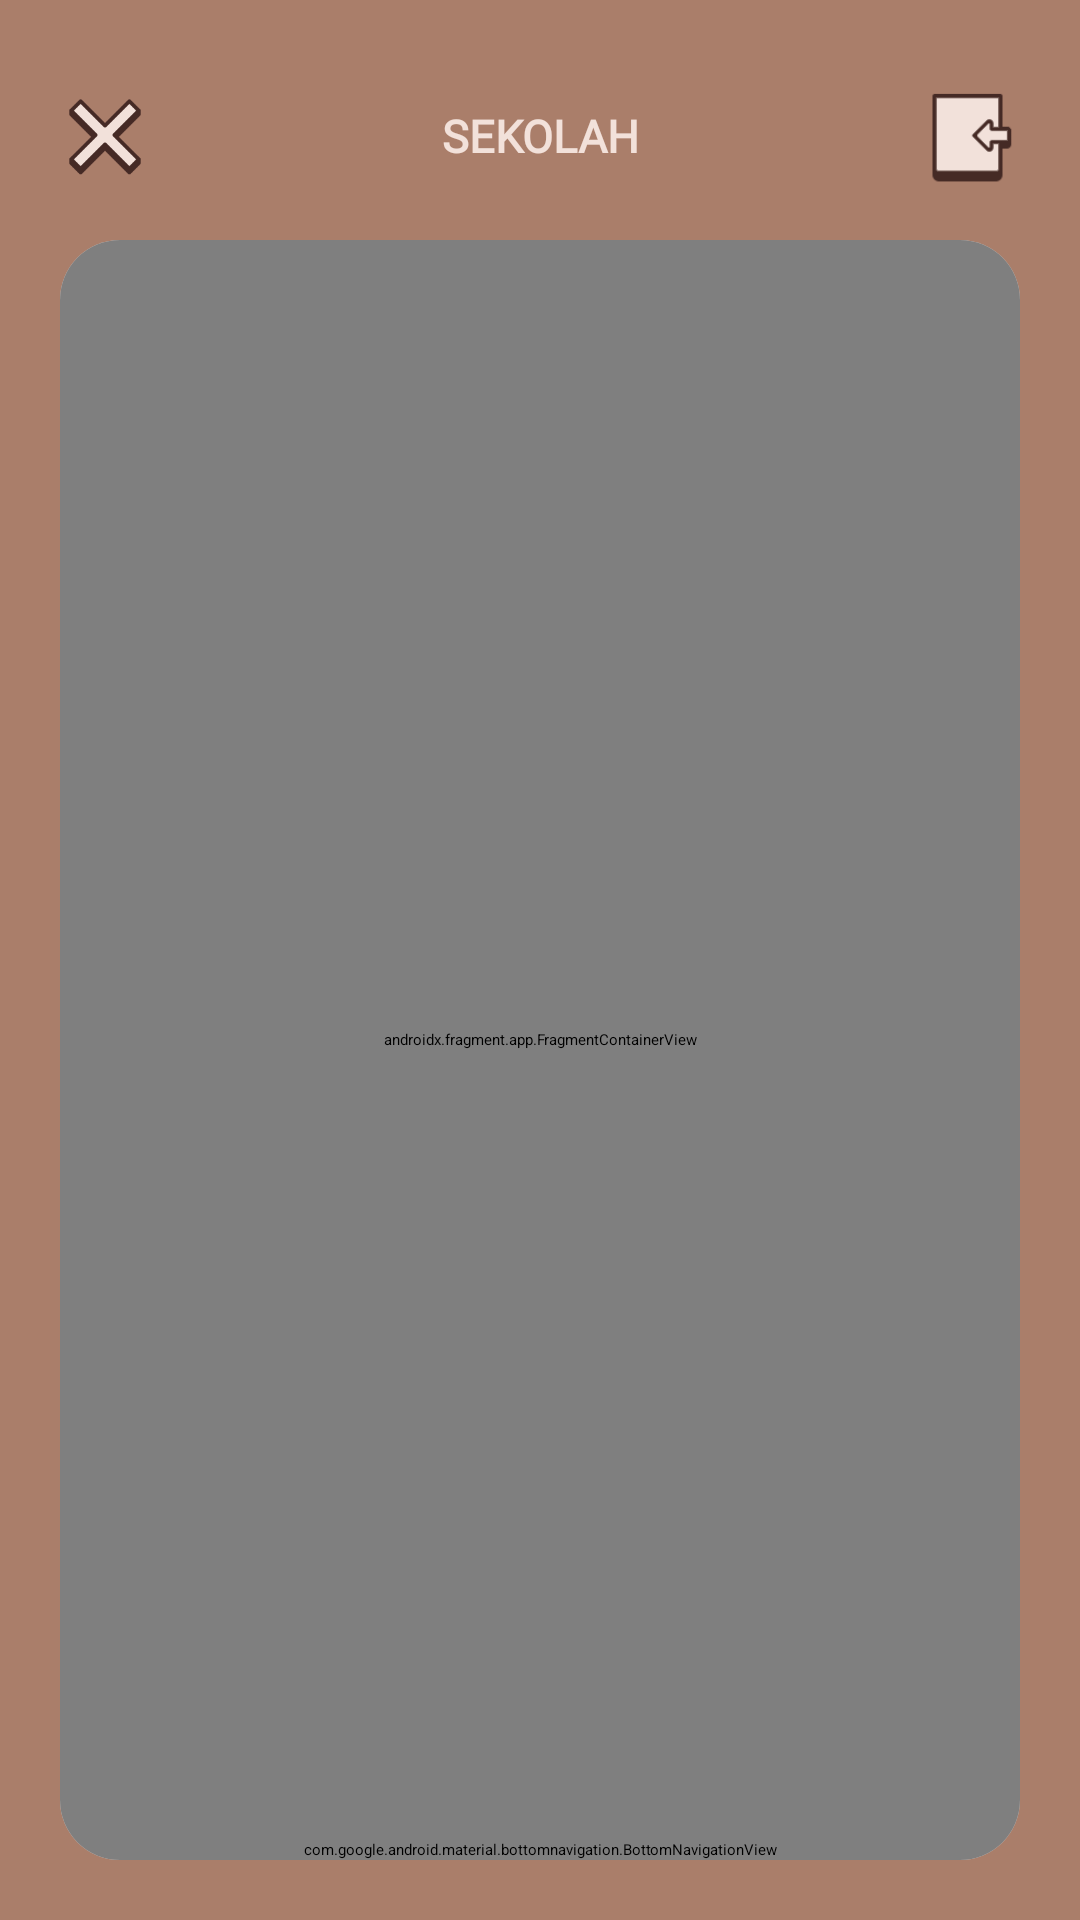

Where to tap for icons on this 1080 × 1920 app screen, as (x=x, y=y):
close: (x=105, y=137)
login: (x=972, y=138)
